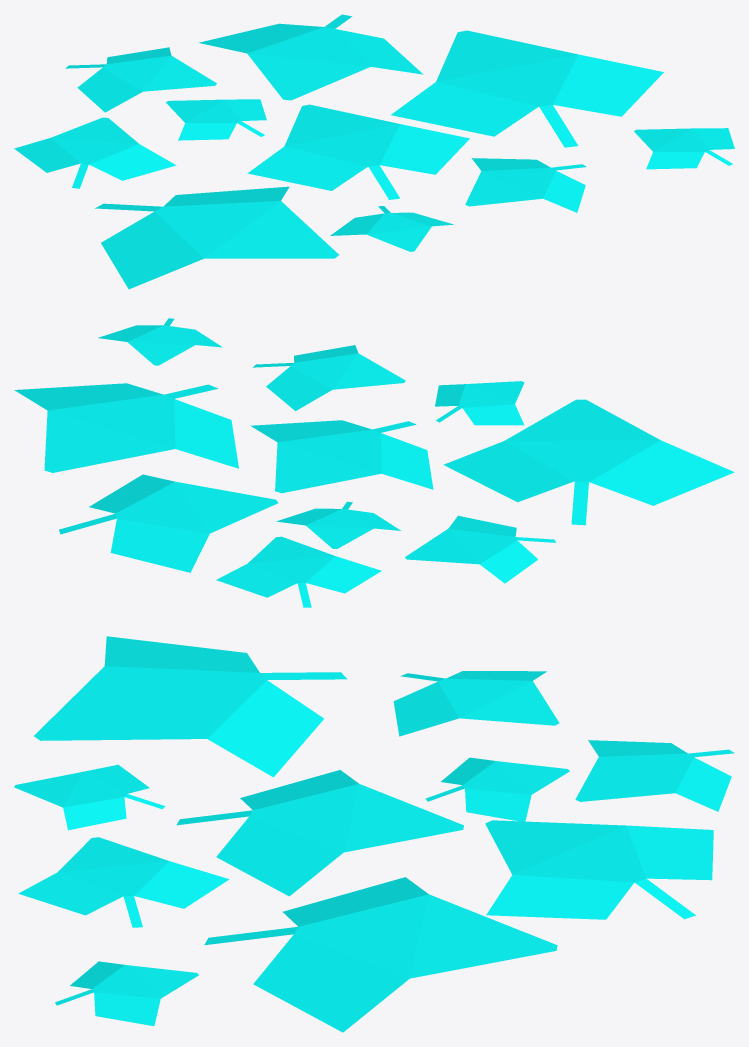
Rendered from LeafPile_2.fbx.
3 views of the same model, one above another, from view 1: azimuth 30°, elevation 25°; view 2: azimuth 150°, elevation 25°; view 3: azimuth 270°, elevation 25° (orthographic). The views are drawn at different scales.
Visible parts, largest first — view 1: LeafPile_2; view 2: LeafPile_2; view 3: LeafPile_2.
Boxes of the visible parts, left/top/right/bottom form: LeafPile_2: left=14, top=14, right=734, bottom=289; LeafPile_2: left=14, top=318, right=734, bottom=607; LeafPile_2: left=14, top=636, right=734, bottom=1032.
Bounding box in the file's own units: 243 × 6.16 × 189.
